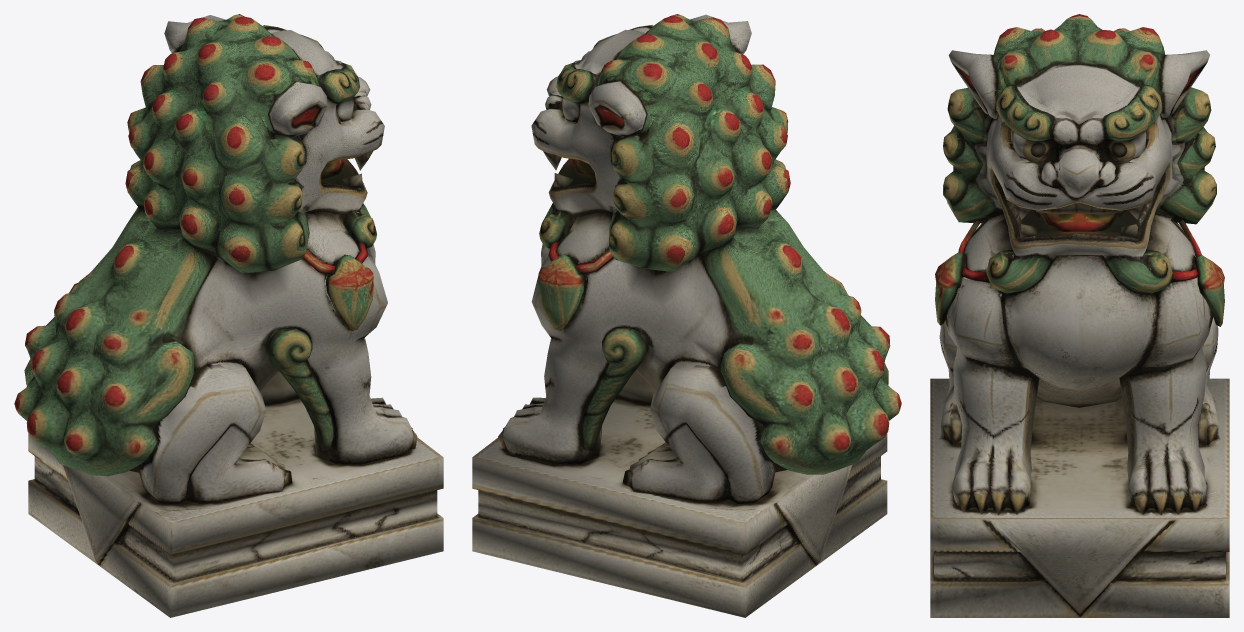
File: tripo_convert_cbf168c5-e313-4e59-8d41-3d2159050879.fbx
The picture shows the model from 3 angles, left to right: view 1: azimuth 30°, elevation 25°; view 2: azimuth 150°, elevation 25°; view 3: azimuth 270°, elevation 25°; orthographic projection. The views are drawn at different scales.
Visible parts, largest first — view 1: tripo_node_cbf168c5; view 2: tripo_node_cbf168c5; view 3: tripo_node_cbf168c5.
Part boxes in pixels (x1,y1,x2,y2): tripo_node_cbf168c5: (14,14,443,617); tripo_node_cbf168c5: (472,14,901,617); tripo_node_cbf168c5: (930,14,1229,617).
Size of the model in its own units: 0.7246 by 0.998 by 0.5137.
Materials: 1 (1 with a texture image).
